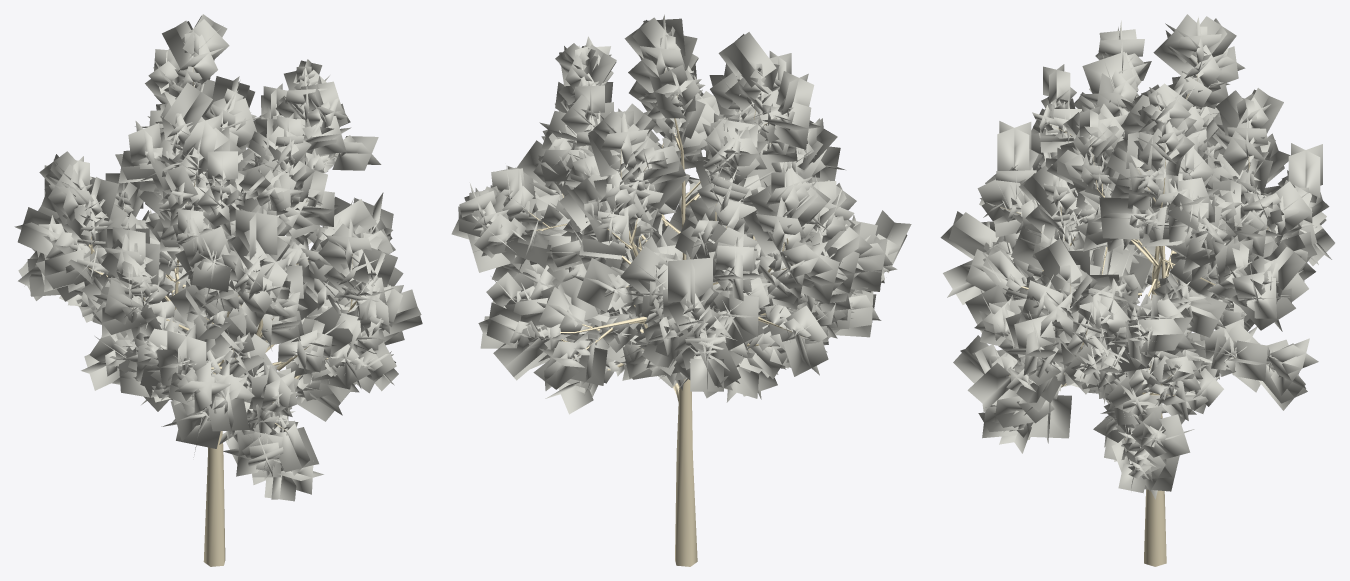
The model's file is oak_medium_v1_lod1.glb.
3 views of the same model, side by side, from view 1: azimuth 30°, elevation 25°; view 2: azimuth 150°, elevation 25°; view 3: azimuth 270°, elevation 25° (orthographic). The views are drawn at different scales.
Visible parts, largest first — view 1: Leaves, Branches; view 2: Leaves, Branches; view 3: Leaves, Branches.
Boxes of the visible parts, x1,y1,x2,y2 form: Leaves: (14, 14, 422, 501); Branches: (88, 67, 361, 566); Leaves: (451, 14, 911, 414); Branches: (507, 70, 802, 566); Leaves: (940, 14, 1334, 499); Branches: (1000, 60, 1268, 566).
Size of the model in its own units: 50.04 by 71.18 by 46.33.
